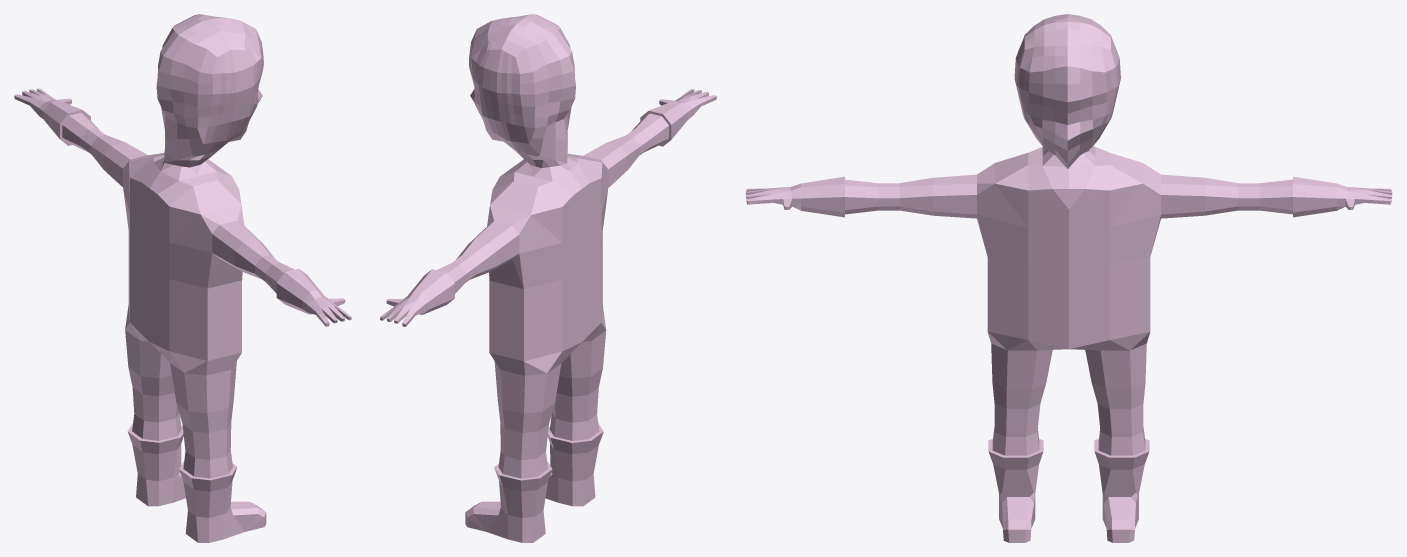
Rendered from Main.fbx.
The picture shows the model from 3 angles, left to right: view 1: azimuth 30°, elevation 25°; view 2: azimuth 150°, elevation 25°; view 3: azimuth 270°, elevation 25°; orthographic projection. The views are drawn at different scales.
Visible parts, largest first — view 1: Cube; view 2: Cube; view 3: Cube.
Part boxes in pixels (x1,y1,x2,y2): Cube: (14,14,351,542); Cube: (380,14,716,542); Cube: (745,14,1392,542).
Bounding box in the file's own units: 164 × 678 × 784.
